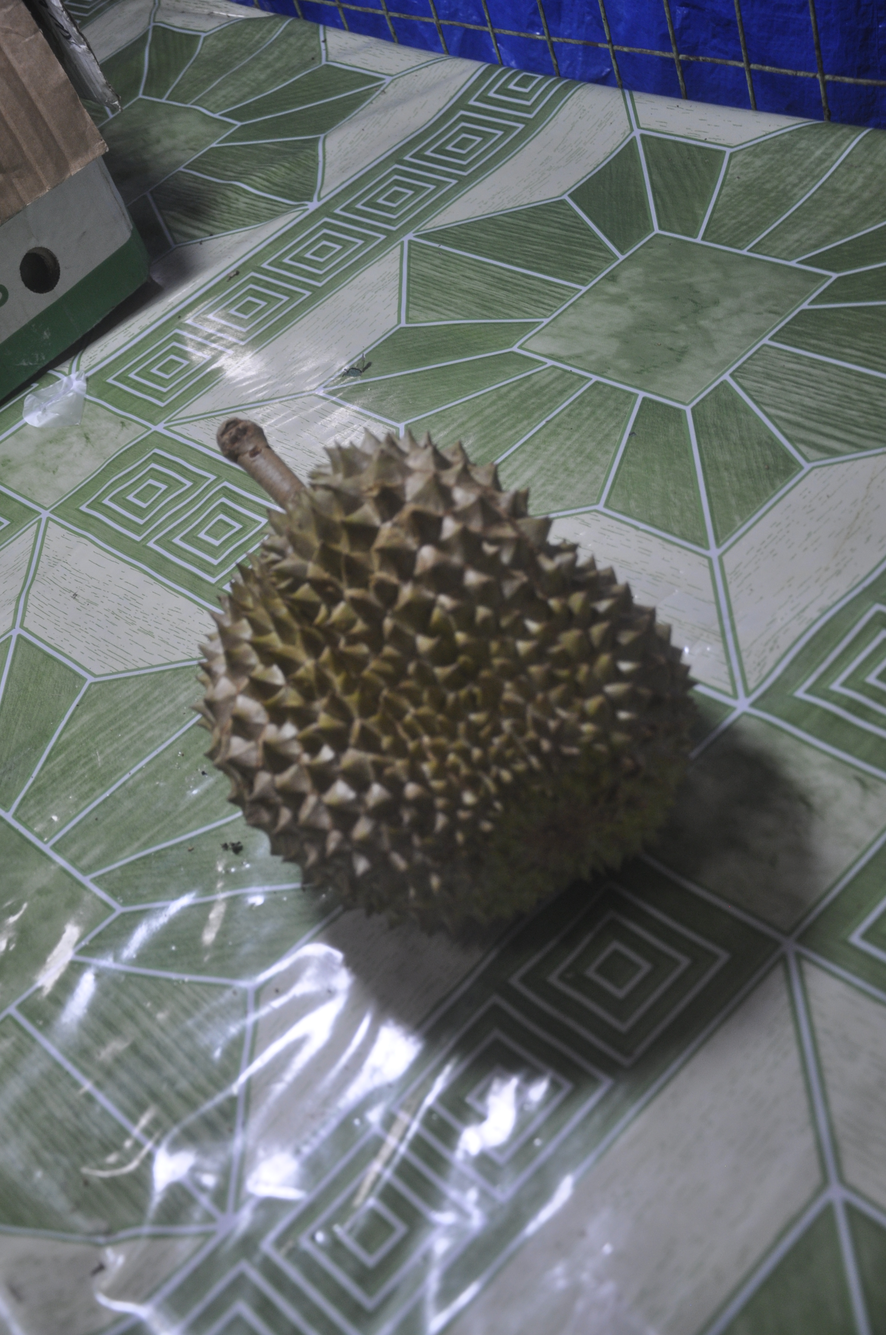mature: (146, 349, 725, 967)
